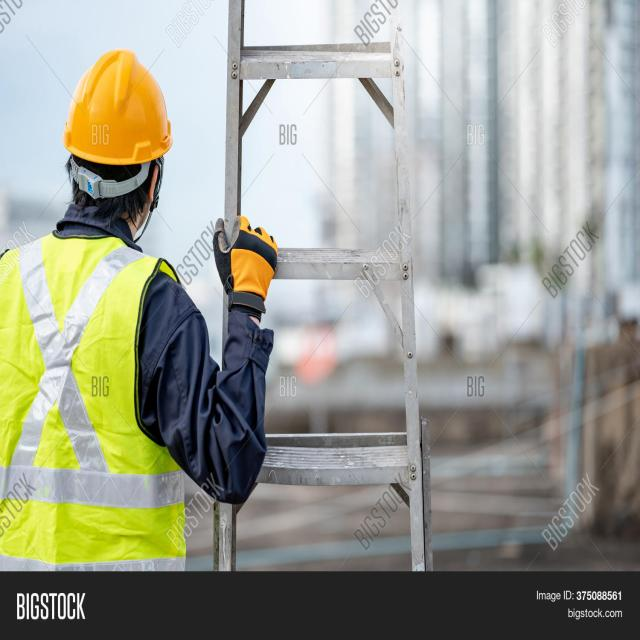helmet: (52, 41, 185, 176)
vest: (0, 216, 200, 575)
